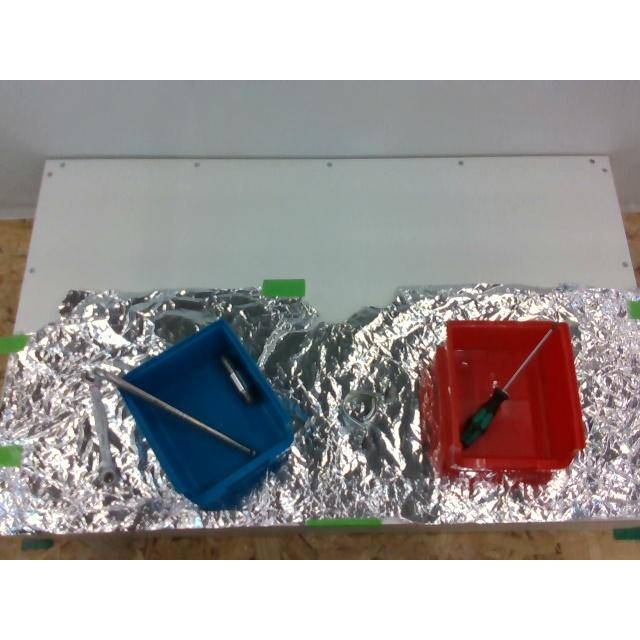AllenKey: (93, 369, 257, 457)
Axis2: (220, 356, 252, 404)
Housing: (338, 384, 389, 448)
Screwdriver: (460, 321, 560, 447)
Wrench: (90, 379, 118, 481)
container_box_blue: (115, 319, 292, 509)
container_box_red: (443, 323, 585, 473)
